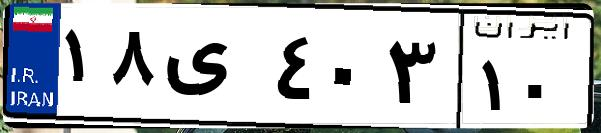0: (330, 28, 385, 110), (525, 38, 570, 115)
1: (57, 26, 110, 100), (475, 38, 525, 113)
3: (385, 28, 445, 110)
4: (270, 28, 330, 110)
8: (110, 28, 158, 98)
ی: (158, 20, 270, 120)
